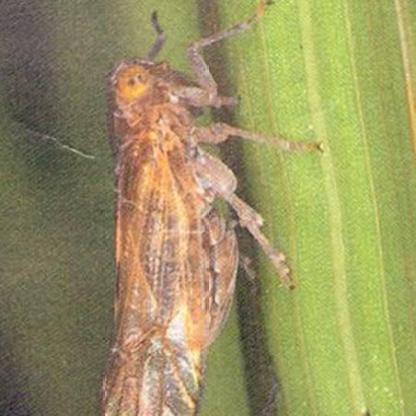brown-planthopper: (103, 53, 238, 416)
